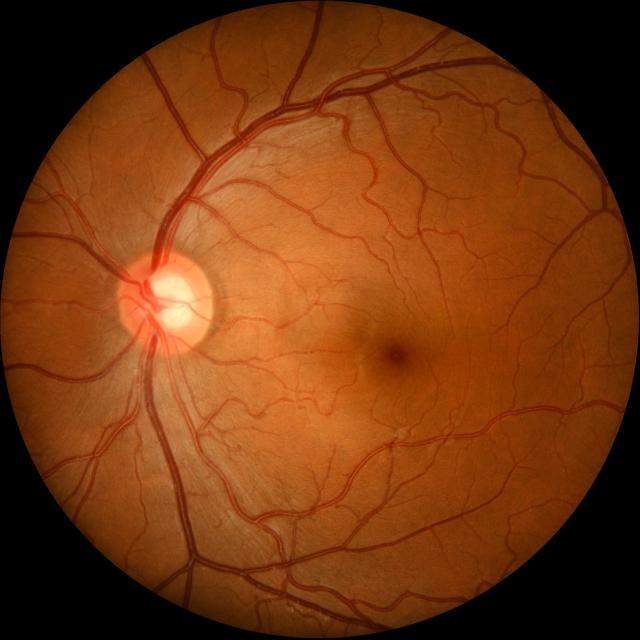OC: (144, 272, 192, 330)
OD: (116, 252, 212, 352)
